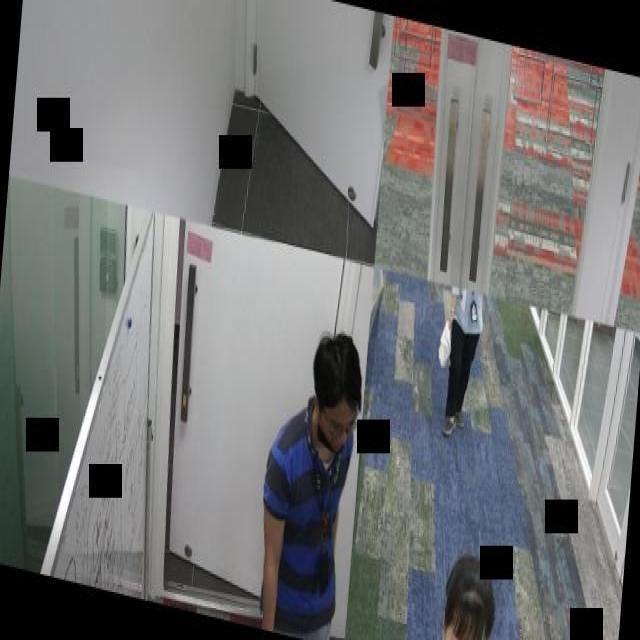hairnet: (315, 404, 358, 456)
